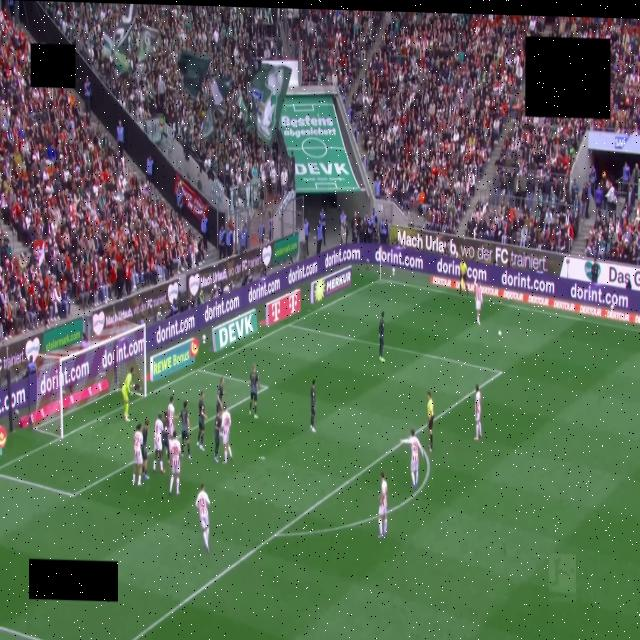ball: (498, 331, 501, 336)
player: (400, 429, 425, 488), (196, 484, 210, 552), (169, 431, 180, 495), (153, 413, 164, 473), (180, 401, 191, 460), (122, 367, 134, 421), (221, 405, 232, 463), (133, 424, 143, 485), (378, 472, 387, 538), (249, 365, 259, 419), (197, 391, 206, 451), (162, 413, 172, 464), (142, 420, 149, 478), (474, 384, 481, 440), (167, 396, 176, 437), (214, 412, 221, 461), (379, 311, 385, 362), (475, 283, 482, 325), (217, 377, 225, 412), (310, 379, 315, 432)
referee: (427, 392, 434, 452)
